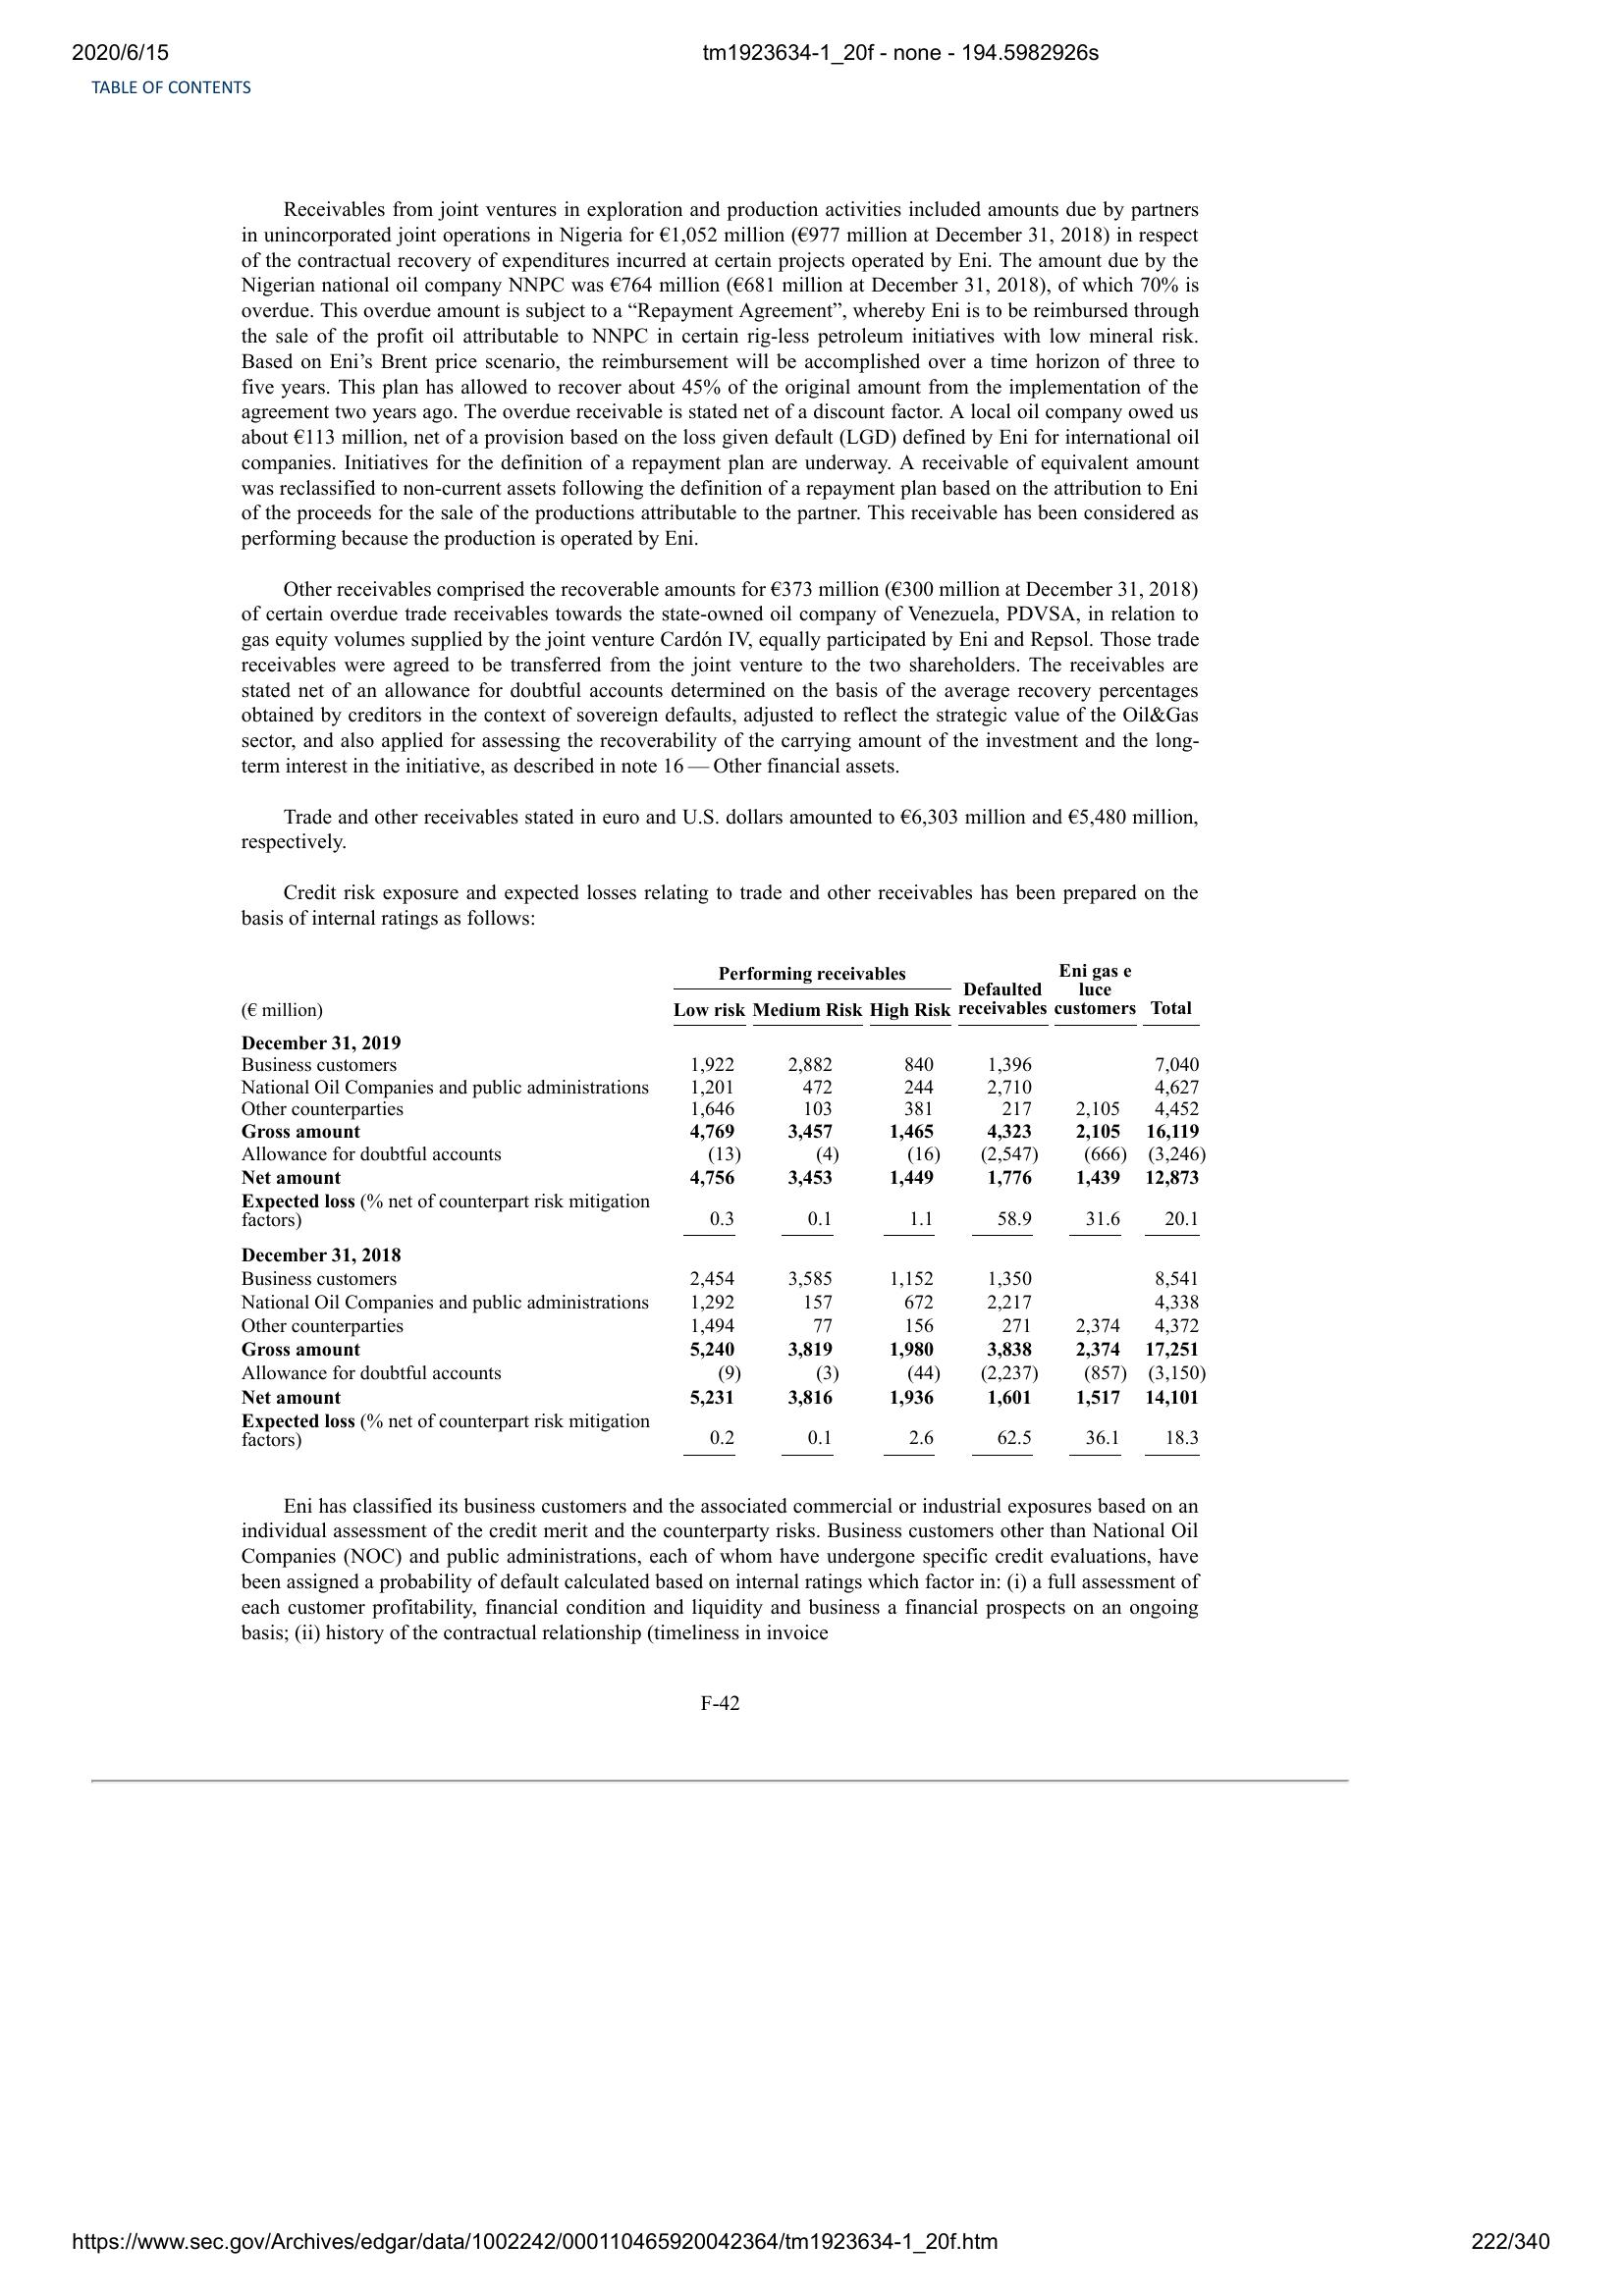table: (235, 957, 1201, 1459)
